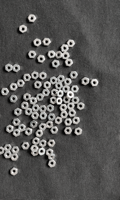nut: (28, 14, 37, 23), (65, 59, 74, 67), (13, 64, 21, 73), (82, 77, 90, 86), (72, 117, 81, 125), (19, 25, 27, 33), (34, 39, 42, 47), (61, 44, 69, 52), (55, 51, 63, 59), (52, 60, 60, 68), (38, 55, 46, 63), (5, 64, 13, 72), (91, 79, 99, 87), (1, 88, 9, 96), (23, 74, 31, 82), (31, 72, 39, 80), (50, 77, 58, 85), (57, 75, 65, 83), (64, 78, 72, 86), (34, 81, 42, 89), (55, 82, 63, 90), (42, 89, 50, 97), (21, 102, 29, 110), (39, 105, 47, 113), (25, 108, 33, 116), (14, 108, 22, 116), (31, 112, 39, 120), (55, 117, 63, 125), (75, 128, 83, 136), (30, 121, 38, 129), (18, 124, 26, 132), (13, 129, 21, 137), (25, 128, 33, 136), (48, 160, 56, 168), (38, 148, 46, 156), (43, 38, 52, 45), (28, 51, 37, 58), (64, 128, 73, 135), (12, 119, 21, 126), (67, 40, 75, 47), (63, 52, 70, 60), (48, 51, 56, 58), (70, 72, 78, 79), (10, 84, 18, 91), (17, 80, 25, 87), (40, 72, 47, 80), (10, 96, 18, 103), (71, 86, 79, 93), (24, 93, 31, 101), (30, 97, 37, 105), (67, 91, 74, 99), (57, 90, 64, 98), (51, 89, 58, 97), (36, 94, 44, 101), (50, 97, 57, 105), (63, 97, 71, 104), (72, 97, 80, 104), (77, 103, 85, 110), (67, 103, 75, 110), (60, 105, 68, 112), (47, 105, 54, 113), (32, 105, 40, 112), (69, 110, 77, 117), (39, 113, 47, 120), (48, 114, 56, 121), (65, 119, 73, 126), (51, 127, 59, 134), (46, 121, 53, 129), (39, 124, 47, 131), (7, 125, 14, 133), (36, 130, 44, 137), (32, 138, 40, 145), (40, 140, 47, 148), (48, 140, 56, 147), (32, 149, 39, 157), (22, 143, 30, 150), (12, 147, 20, 154), (4, 145, 12, 152), (11, 168, 18, 176), (4, 152, 12, 159), (11, 154, 19, 161), (44, 82, 51, 89), (63, 86, 70, 93), (56, 98, 63, 105), (61, 112, 68, 119), (47, 149, 54, 156), (31, 146, 39, 152), (49, 154, 56, 160), (0, 147, 5, 155)
